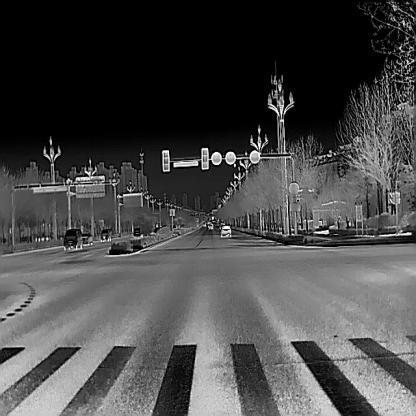car: (62, 227, 82, 251), (219, 225, 231, 237), (100, 229, 111, 242), (82, 231, 92, 245), (133, 226, 143, 236), (209, 223, 213, 229), (203, 221, 206, 226)
